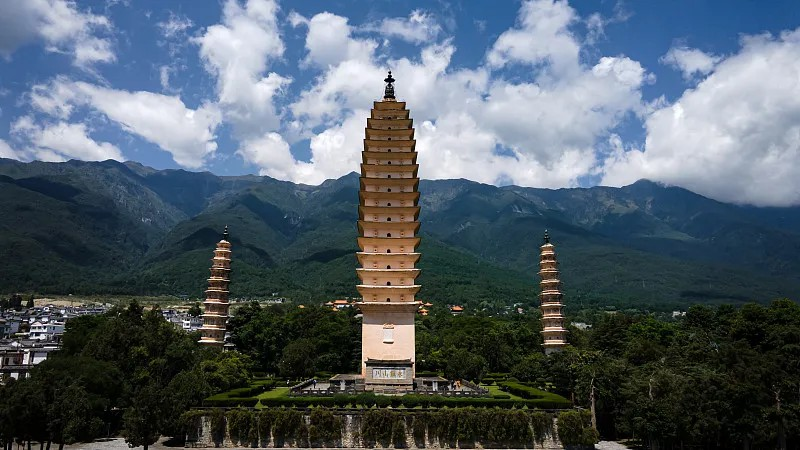ThreePagoda: (357, 71, 421, 377)
